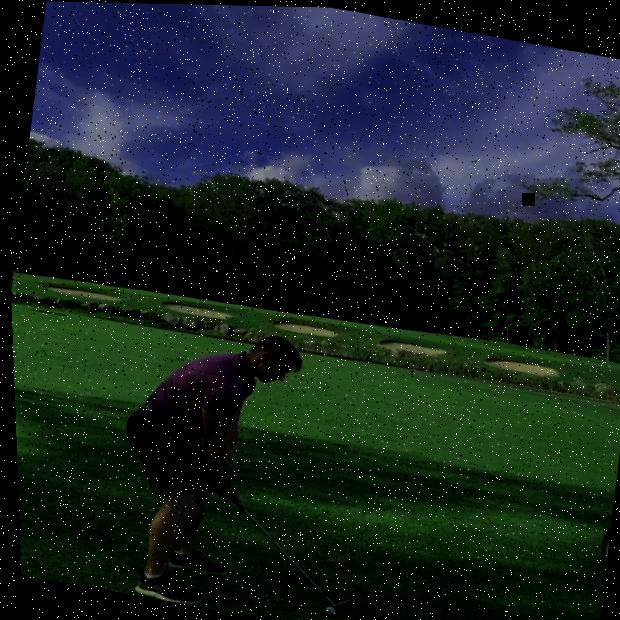ClubHead: (329, 595, 348, 609)
GolfBall: (318, 604, 332, 614)
